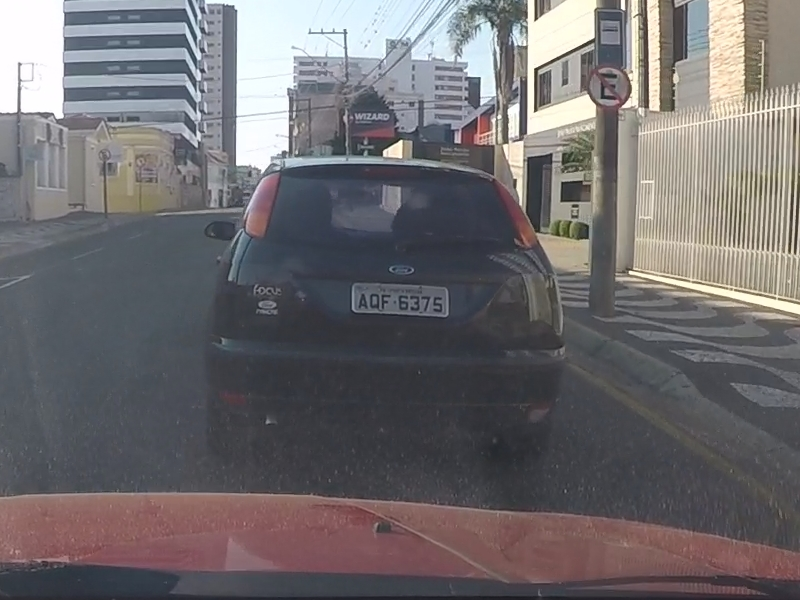placa: (351, 283, 449, 317)
